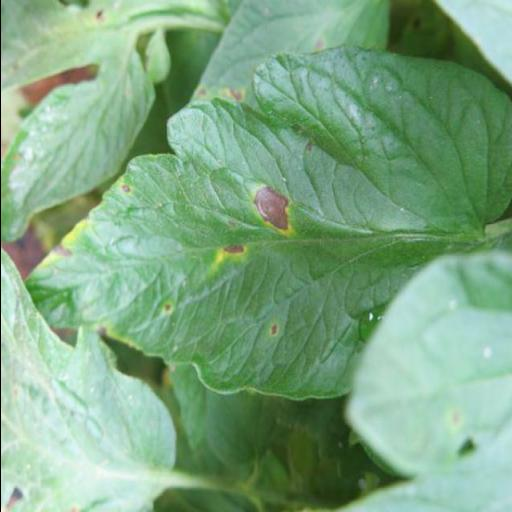disease_tomato: (29, 47, 512, 401)
